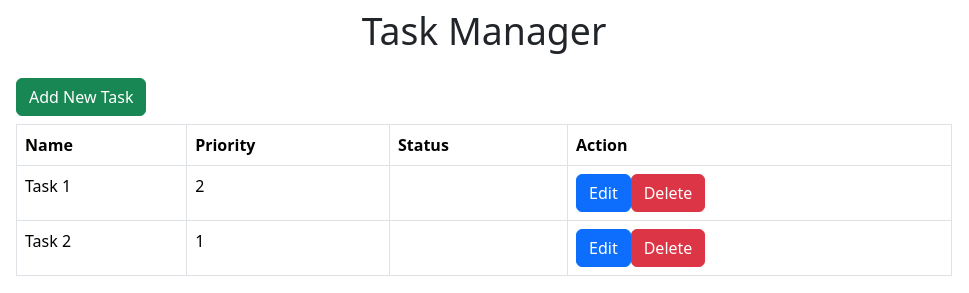
Test: TaskManager › edits a task
Expected: the text "Task 1" is shown, x1=16 y1=165 x2=187 y2=220
Expected: the text "Task 2" is shown, x1=16 y1=220 x2=187 y2=275
Click the button with test id "editTask1" at (603, 193), box x1=576 y1=174 x2=631 y2=212
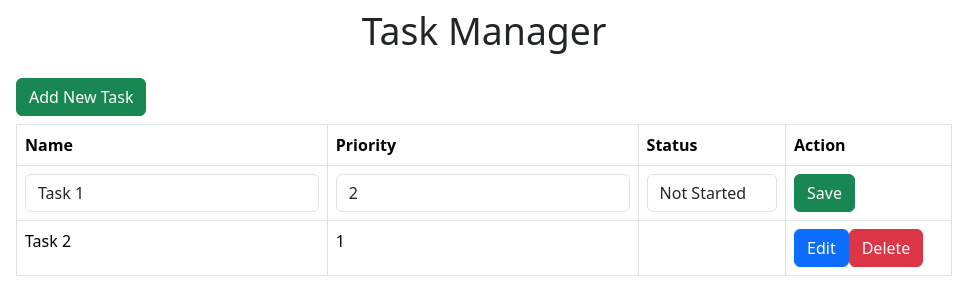
Replace the text in the field with test id "editName1" with "Updated Task 1" at (172, 193), box x1=25 y1=174 x2=319 y2=212
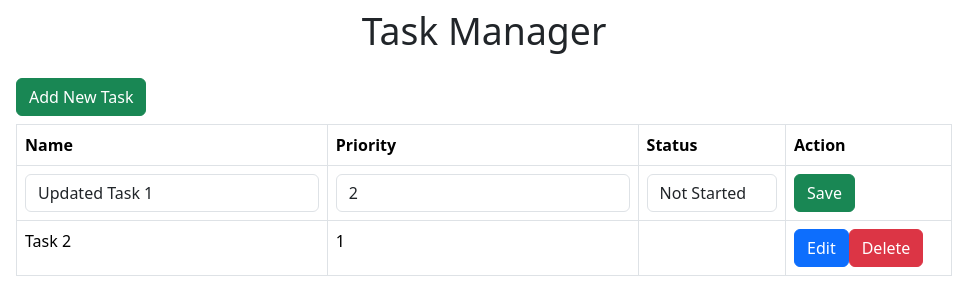
Replace the text in the number field with test id "editPriority1" with "4" at (483, 193), box x1=336 y1=174 x2=630 y2=212
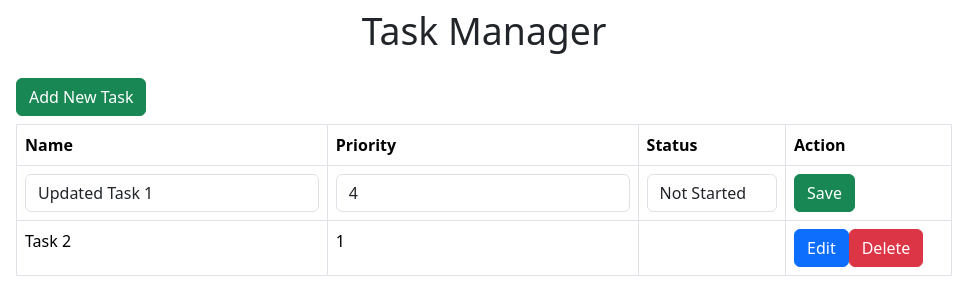
Select "Not Started" in the dropdown with test id "editStatus1" at (712, 193), box x1=647 y1=174 x2=777 y2=212
Click the button with test id "save1" at (824, 193), box x1=794 y1=174 x2=855 y2=212
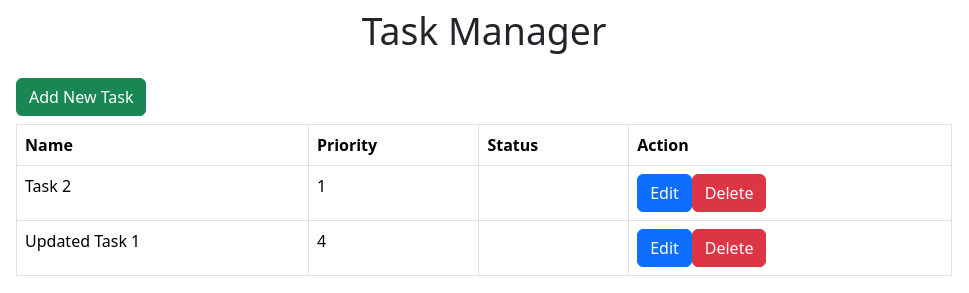
Now the text "Updated Task 1" is shown, box x1=16 y1=220 x2=308 y2=275
